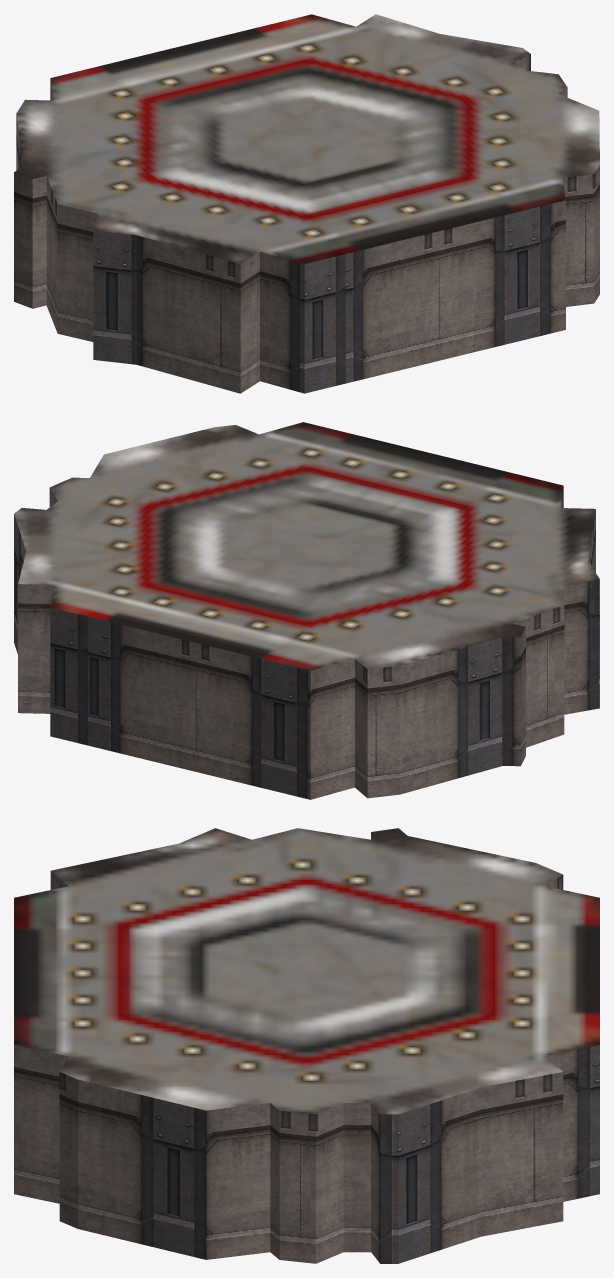
The model's file is bsealed_hard_54.glb.
3 views of the same model, one above another, from view 1: azimuth 30°, elevation 25°; view 2: azimuth 150°, elevation 25°; view 3: azimuth 270°, elevation 25° (orthographic). The views are drawn at different scales.
Visible parts, largest first — view 1: buildings/saxarba/bsealed_hard/bsealed_hard_54; view 2: buildings/saxarba/bsealed_hard/bsealed_hard_54; view 3: buildings/saxarba/bsealed_hard/bsealed_hard_54.
Part boxes in pixels (<box>): buildings/saxarba/bsealed_hard/bsealed_hard_54: <box>14,14,599,393</box>; buildings/saxarba/bsealed_hard/bsealed_hard_54: <box>14,422,599,799</box>; buildings/saxarba/bsealed_hard/bsealed_hard_54: <box>14,828,599,1263</box>.
Size of the model in its own units: 74 by 18 by 64.
